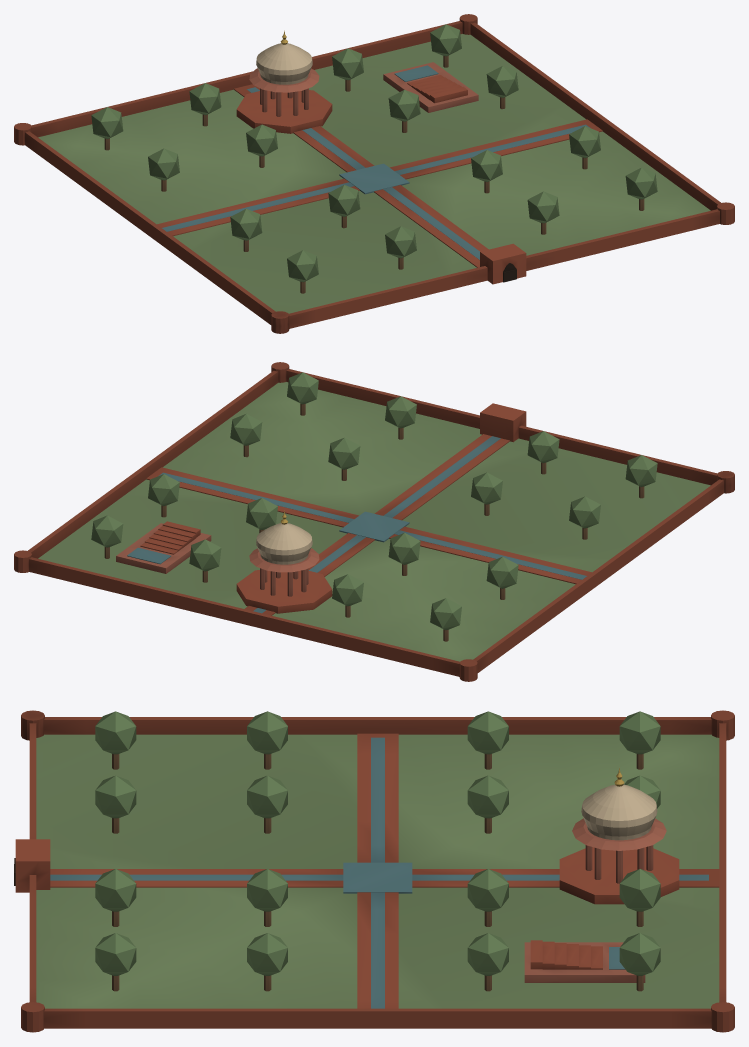
Rendered from babur-garden.glb.
3 views of the same model, one above another, from view 1: azimuth 30°, elevation 25°; view 2: azimuth 150°, elevation 25°; view 3: azimuth 270°, elevation 25° (orthographic). The views are drawn at different scales.
Visible parts, largest first — view 1: p0_garden, p1_step-well and pavilion, p2_pavilion; view 2: p0_garden, p1_step-well and pavilion, p2_pavilion; view 3: p0_garden, p1_step-well and pavilion, p2_pavilion.
Part boxes in pixels (<box>): p0_garden: <box>14,14,734,333</box>; p1_step-well and pavilion: <box>236,62,478,133</box>; p2_pavilion: <box>249,30,319,116</box>; p0_garden: <box>14,362,734,681</box>; p1_step-well and pavilion: <box>116,521,332,613</box>; p2_pavilion: <box>249,510,319,596</box>; p0_garden: <box>14,710,734,1032</box>; p1_step-well and pavilion: <box>524,847,679,982</box>; p2_pavilion: <box>572,767,666,883</box>.
Bounding box in the file's own units: 82.8 × 14.69 × 83.6.
